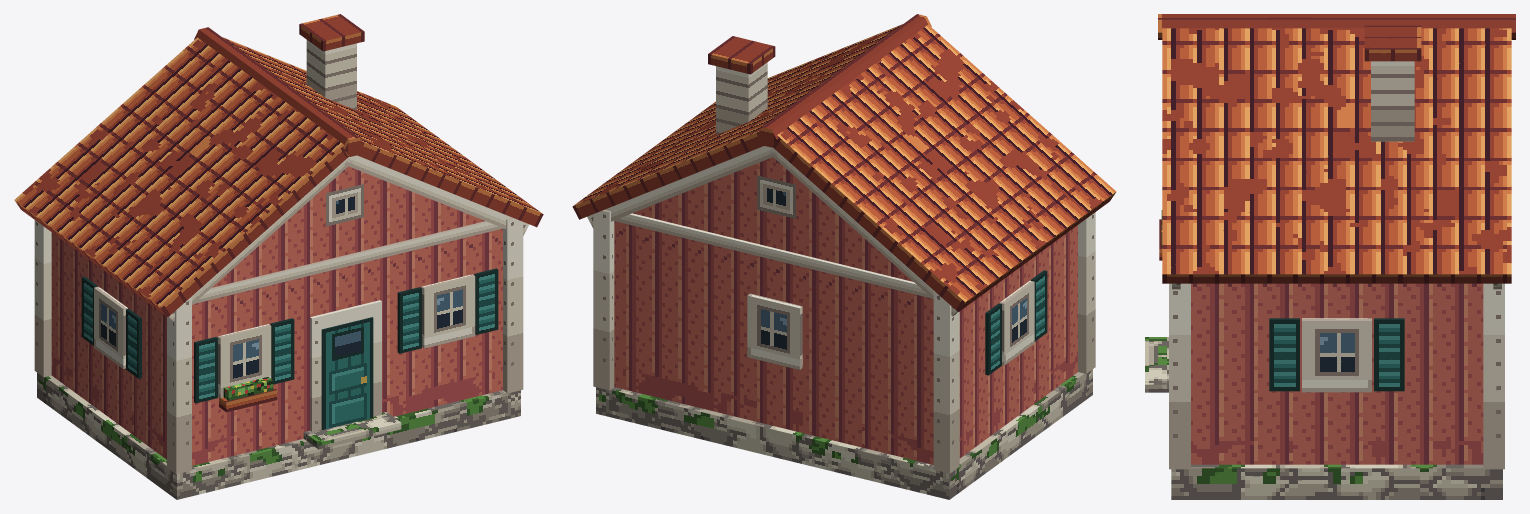
File: coral-house.glb
3 renders of one model, left to right at view 1: azimuth 30°, elevation 25°; view 2: azimuth 150°, elevation 25°; view 3: azimuth 270°, elevation 25°, orthographic. The views are drawn at different scales.
Visible parts, largest first — view 1: coral-house__roof, coral-house__walls, coral-house__base, coral-house__gable, coral-house__roof~x, coral-house__door, coral-house__corner~x, coral-house__frieze, coral-house__corner, coral-house__win_front, coral-house__door_frame, coral-house__ridge (+16 smaller); view 2: coral-house__walls, coral-house__roof, coral-house__base, coral-house__gable, coral-house__roof~x, coral-house__corner~xz, coral-house__corner~z, coral-house__frieze, coral-house__win_back, coral-house__ridge, coral-house__chimney, coral-house__corner~x (+6 smaller); view 3: coral-house__roof~x, coral-house__walls, coral-house__base, coral-house__ridge, coral-house__win_side, coral-house__corner, coral-house__corner~z, coral-house__chimney, coral-house__shut_side, coral-house__shut_side~z, coral-house__chimney_cap, coral-house__step.
Boxes of the visible parts, box(x1,y1,x2,y2) form: coral-house__roof: box(14, 37, 348, 316); coral-house__walls: box(51, 228, 502, 465); coral-house__base: box(37, 373, 520, 499); coral-house__gable: box(212, 166, 484, 287); coral-house__roof~x: box(222, 37, 543, 227); coral-house__door: box(321, 317, 373, 429); coral-house__corner~x: box(167, 297, 191, 474); coral-house__frieze: box(194, 221, 503, 303); coral-house__corner: box(503, 217, 523, 393); coral-house__win_front: box(421, 274, 475, 348); coral-house__door_frame: box(310, 300, 381, 431); coral-house__ridge: box(194, 27, 363, 156); coral-house__walls: box(614, 221, 1077, 464); coral-house__roof: box(772, 24, 1116, 311); coral-house__base: box(596, 369, 1092, 499); coral-house__gable: box(633, 157, 913, 281); coral-house__roof~x: box(572, 24, 902, 219); coral-house__corner~xz: box(933, 291, 959, 473); coral-house__corner~z: box(593, 210, 614, 390); coral-house__frieze: box(614, 213, 931, 298); coral-house__win_back: box(747, 293, 802, 369); coral-house__ridge: box(757, 14, 931, 147); coral-house__chimney: box(716, 62, 767, 134); coral-house__corner~x: box(1078, 212, 1095, 373); coral-house__roof~x: box(1162, 28, 1511, 283); coral-house__walls: box(1191, 283, 1483, 464); coral-house__base: box(1171, 464, 1502, 499); coral-house__ridge: box(1158, 14, 1515, 39); coral-house__win_side: box(1302, 318, 1371, 392); coral-house__corner: box(1169, 283, 1190, 469); coral-house__corner~z: box(1483, 283, 1504, 469); coral-house__chimney: box(1371, 61, 1414, 141); coral-house__shut_side: box(1269, 318, 1299, 391); coral-house__shut_side~z: box(1374, 318, 1404, 391); coral-house__chimney_cap: box(1364, 25, 1421, 61); coral-house__step: box(1145, 337, 1168, 392).
Size of the model in its own units: 5.01 by 4.3 by 3.55.
Materials: 12 (12 with a texture image).
